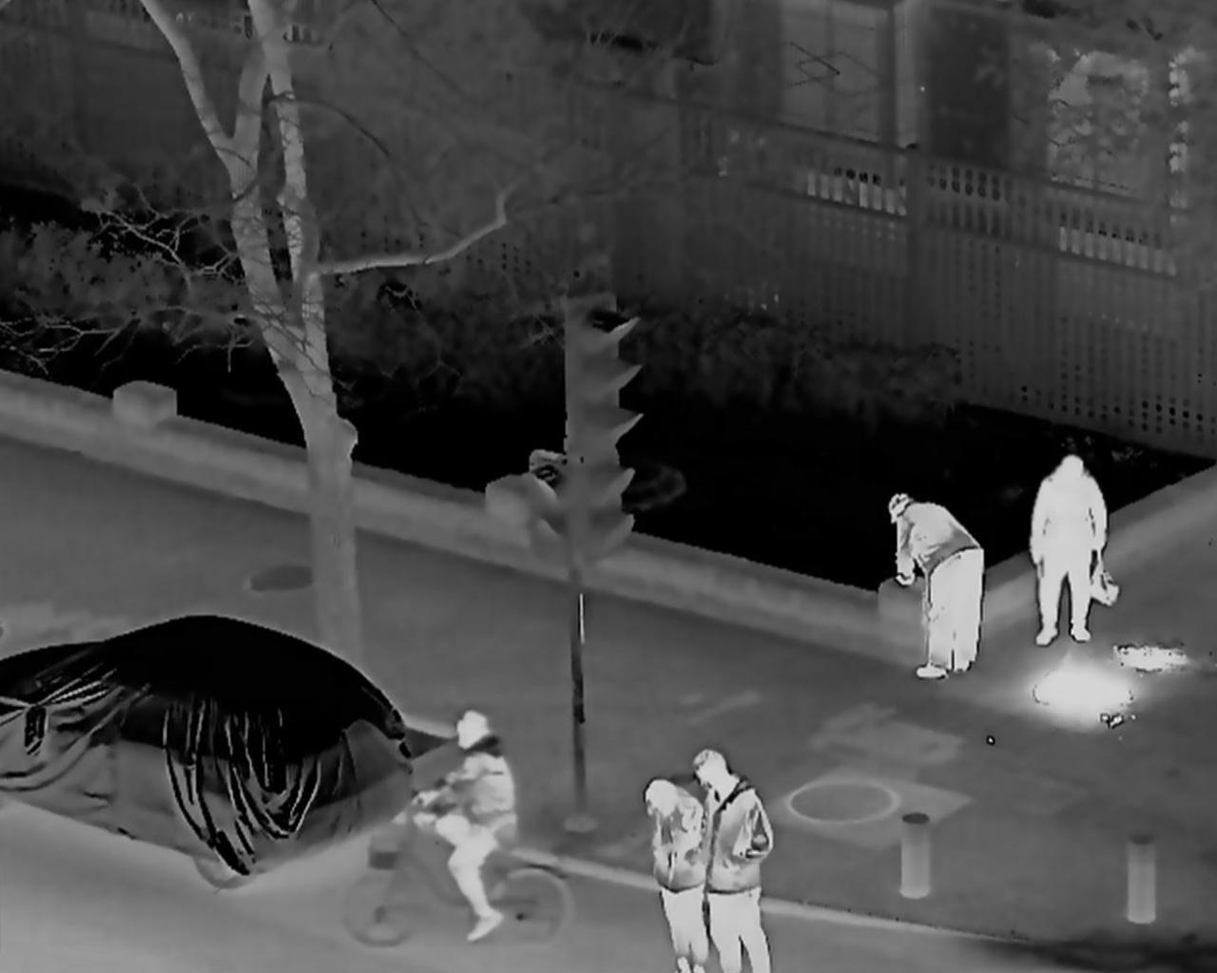person: (417, 705, 515, 935), (689, 746, 774, 972), (885, 493, 985, 674), (1031, 452, 1108, 647), (642, 779, 709, 973)
